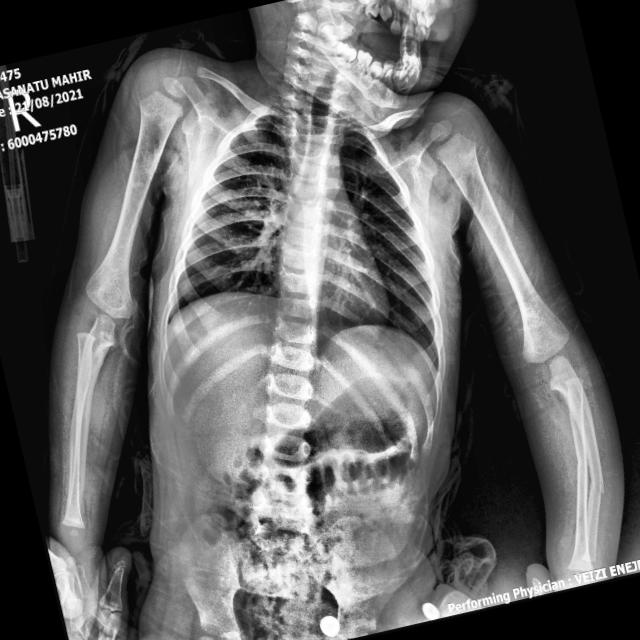Fracture: (587, 464, 612, 509)
